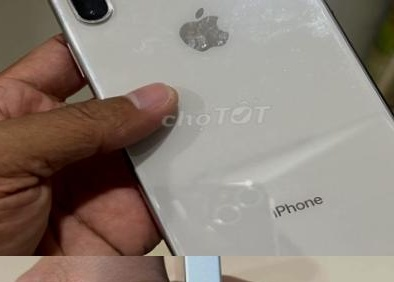scratch: (152, 0, 342, 54)
